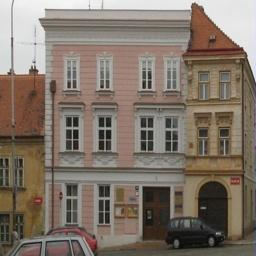building: (46, 8, 191, 242)
